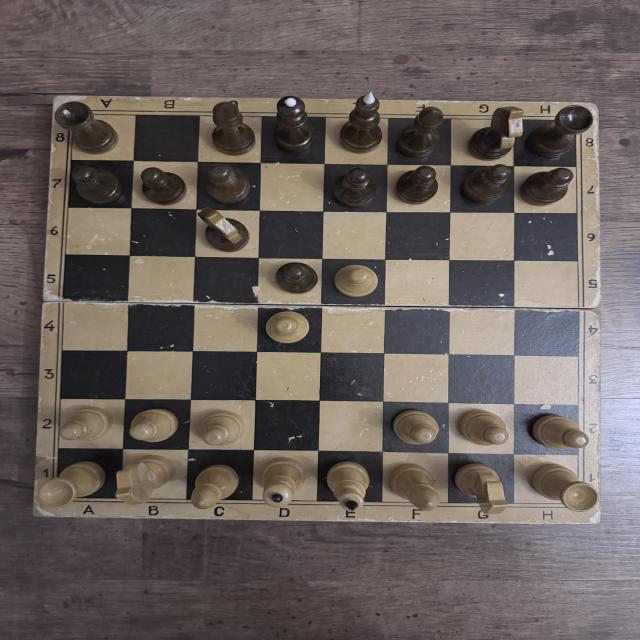black-bishop: (209, 101, 257, 156), (396, 107, 446, 159)
black-king: (339, 91, 386, 154)
black-knight: (469, 107, 524, 159), (198, 209, 252, 254)
black-pawn: (200, 160, 253, 206), (326, 166, 381, 207), (518, 167, 573, 207), (72, 164, 125, 204), (462, 164, 514, 203), (139, 165, 188, 205), (393, 164, 439, 206), (275, 261, 319, 296)
black-queen: (272, 95, 318, 154)
black-rook: (54, 100, 119, 155), (529, 105, 594, 158)
white-bishop: (386, 462, 442, 511), (188, 463, 241, 509)
white-king: (326, 461, 374, 512)
white-knight: (452, 462, 512, 514), (115, 456, 176, 503)
white-pawn: (531, 413, 589, 450), (390, 407, 439, 445), (460, 409, 508, 446), (58, 408, 109, 442), (126, 410, 180, 442), (334, 262, 379, 298), (199, 410, 242, 447), (264, 311, 312, 344)
white-queen: (258, 458, 307, 508)
white-rook: (530, 462, 598, 514), (36, 463, 104, 506)
